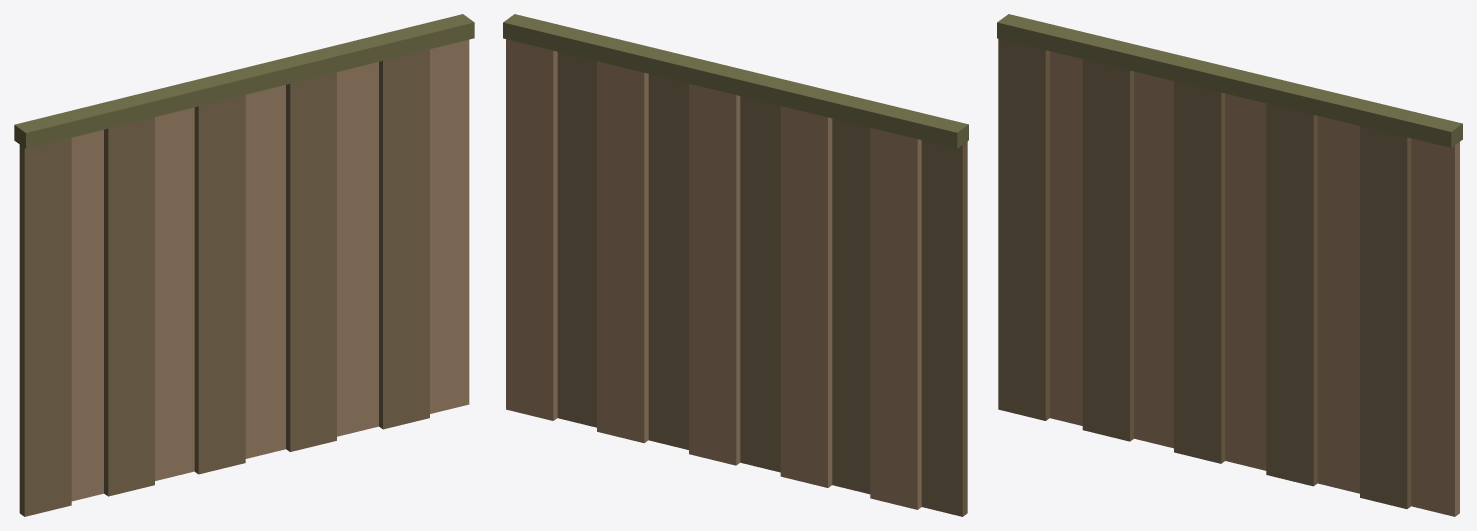
Rendered from Fence_WoodenPanel.fbx.
3 views of the same model, side by side, from view 1: azimuth 30°, elevation 25°; view 2: azimuth 150°, elevation 25°; view 3: azimuth 330°, elevation 25° (orthographic).
Parts seen in each view (by area): view 1: Fence_WoodenPanel; view 2: Fence_WoodenPanel; view 3: Fence_WoodenPanel.
Part boxes in pixels (x1=…): Fence_WoodenPanel: x1=14, y1=14, x2=474, y2=516; Fence_WoodenPanel: x1=503, y1=14, x2=968, y2=516; Fence_WoodenPanel: x1=997, y1=14, x2=1462, y2=516.
Bounding box in the file's own units: 20.01 × 16.39 × 0.9482.
